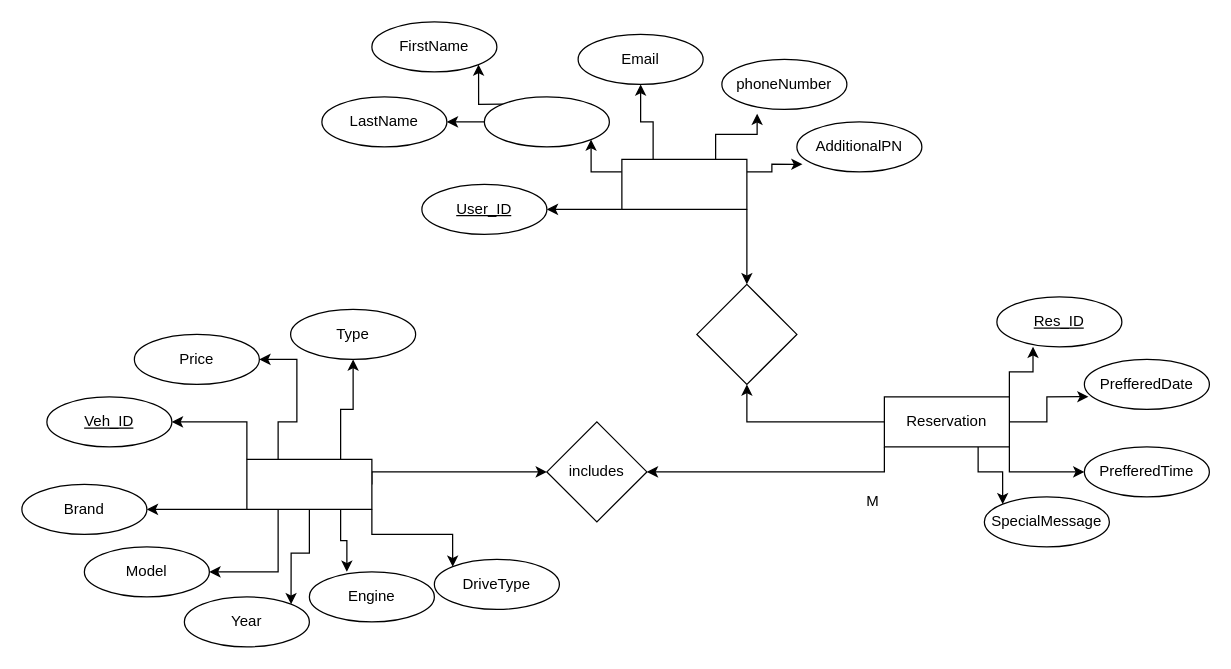
This 1231x669 diagram has some shape labels left out. Here are the shapes that lost their labels. From the top down, the centre of each, then its label:
At point (546, 121): "Name".
At point (684, 183): "User".
At point (746, 333): "Books".
At point (309, 483): "Vehicle".
